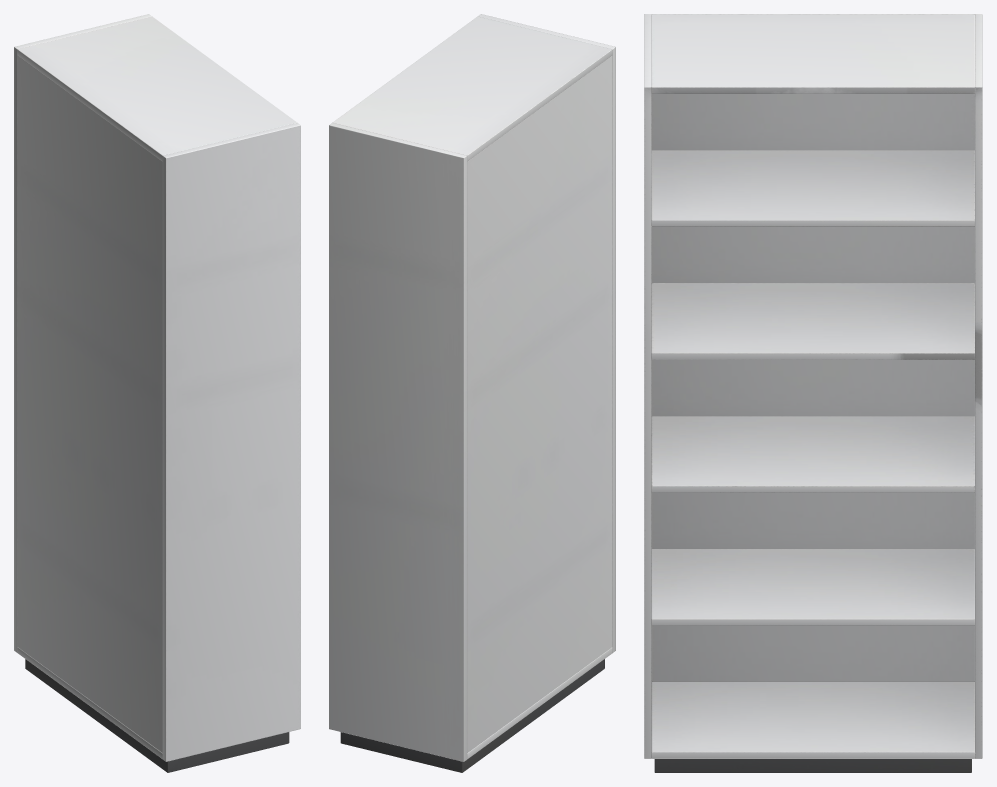
File: aktenregal_180.glb
3 views of the same model, side by side, from view 1: azimuth 30°, elevation 25°; view 2: azimuth 150°, elevation 25°; view 3: azimuth 270°, elevation 25° (orthographic). The views are drawn at different scales.
Parts seen in each view (by area): view 1: aktenregal_180-grey; view 2: aktenregal_180-grey; view 3: aktenregal_180-grey.
Boxes of the visible parts, x1,y1,x2,y2 form: aktenregal_180-grey: (14,14,300,772); aktenregal_180-grey: (329,14,615,772); aktenregal_180-grey: (644,14,982,772).
Size of the model in its own units: 0.4098 by 1.8 by 0.8002.
1 material, 1 textured.
